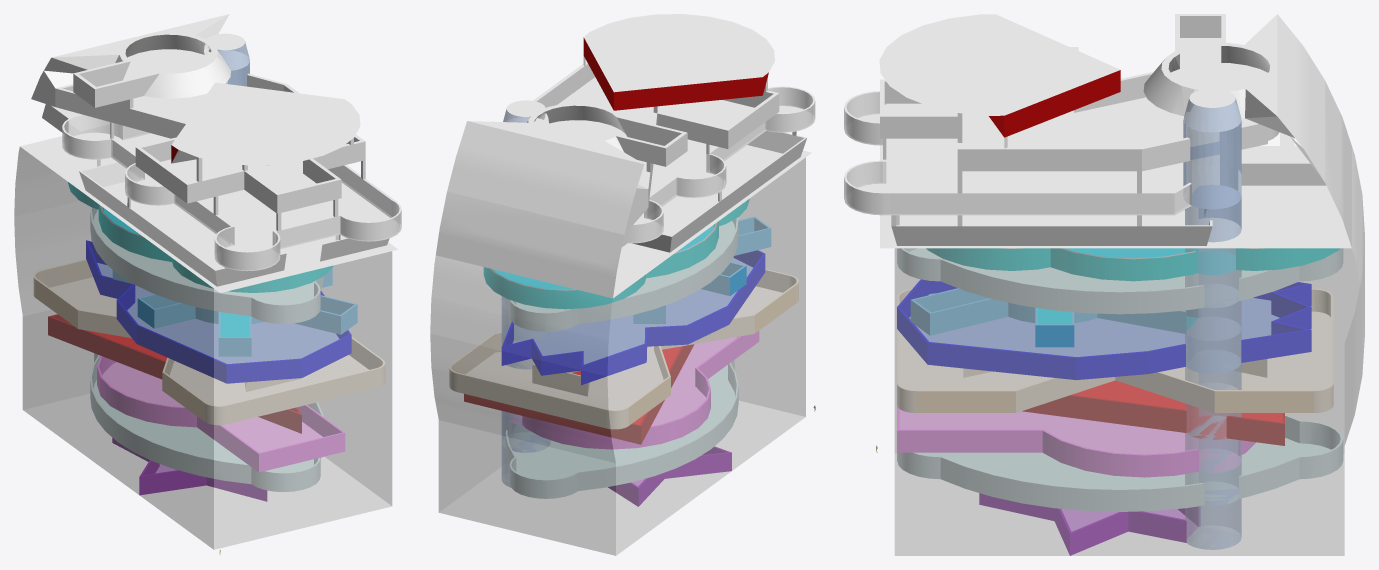
3 views of the same model, side by side, from view 1: azimuth 30°, elevation 25°; view 2: azimuth 150°, elevation 25°; view 3: azimuth 270°, elevation 25° (orthographic). The views are drawn at different scales.
Visible parts, largest first — view 1: Material2 (×17), Material3 (×9); view 2: Material2 (×17), Material3 (×9); view 3: Material2 (×17), Material3 (×11).
Boxes of the visible parts, box(x1,y1,x2,y2) form: Material2 (×17): box(14, 14, 401, 549); Material3 (×9): box(50, 34, 389, 452); Material2 (×17): box(430, 14, 815, 555); Material3 (×9): box(465, 77, 806, 425); Material2 (×17): box(844, 14, 1364, 555); Material3 (×11): box(884, 16, 1340, 538).
Bounding box in the file's own units: 1992 × 3937 × 4229.
